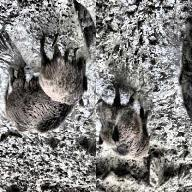boar: (96, 91, 157, 173), (26, 37, 94, 107), (0, 73, 66, 142)
